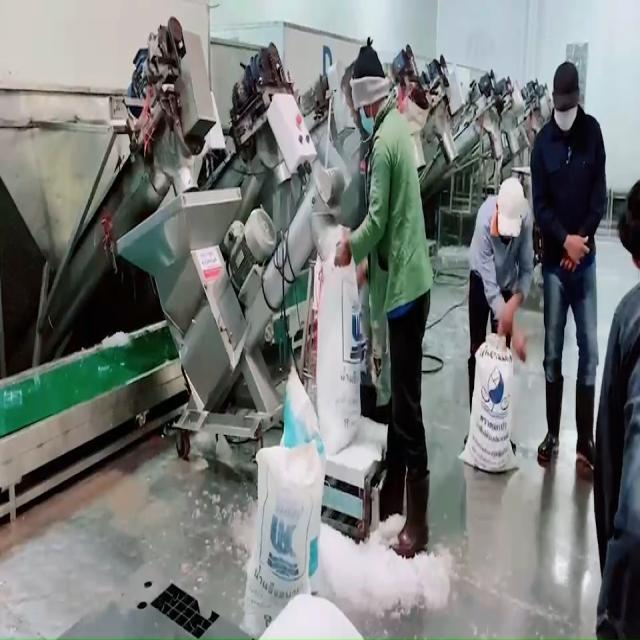ice-bag: (305, 250, 372, 469), (256, 447, 322, 640), (469, 330, 524, 477)
